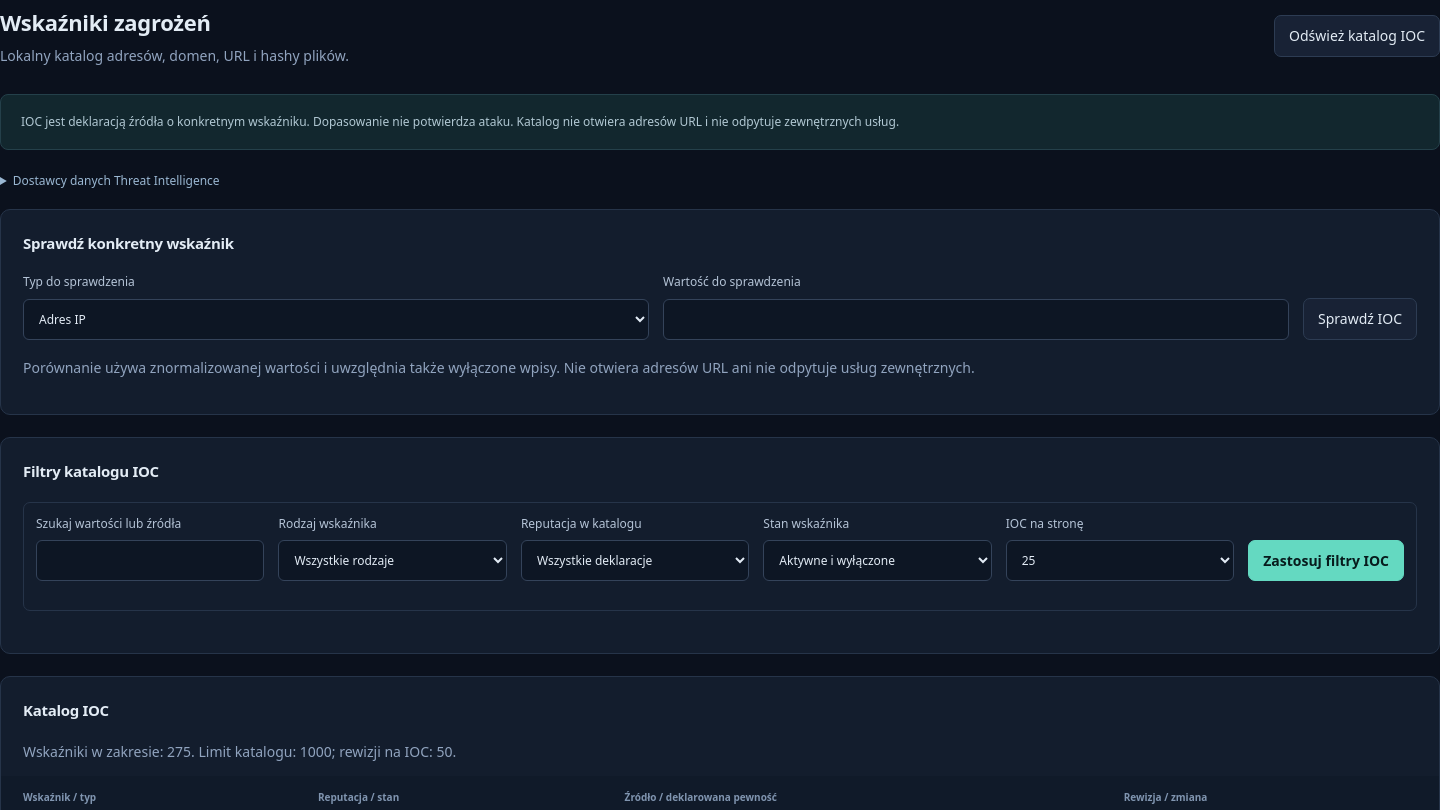
Test: clears stale rows during reload, distinguishes a failure from an empty catalogue and permits retry
Click the button "Odśwież katalog IOC" at (1357, 36), box [1274,15,1439,57]
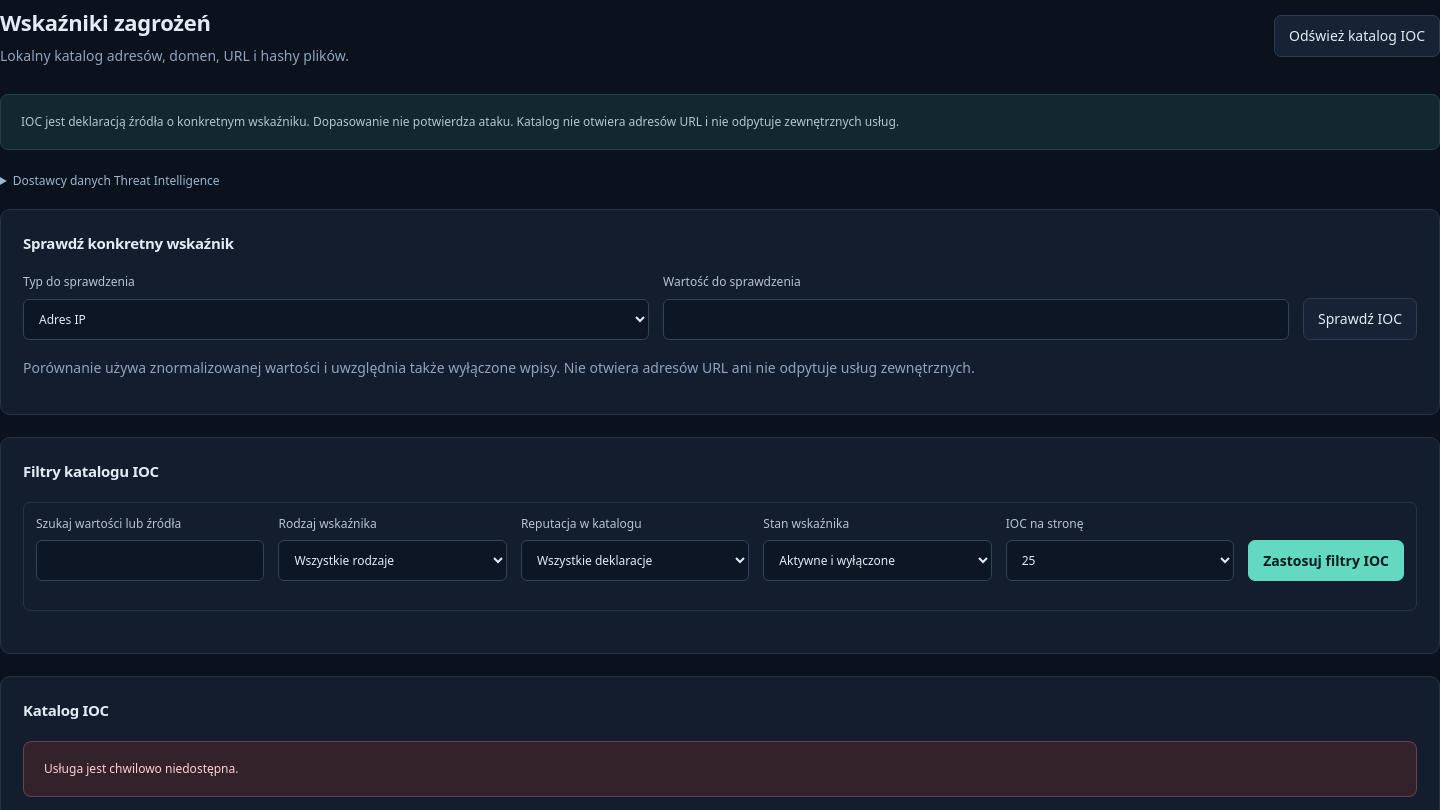
Expected: the text "Brak wskaźników w tym zakresie" is not shown
Result: the message "Usługa jest chwilowo niedostępna." is shown at [23,740,1417,797]
Click the button "Odśwież katalog IOC" at (1357, 36), box [1274,15,1439,57]
(page scrolled)
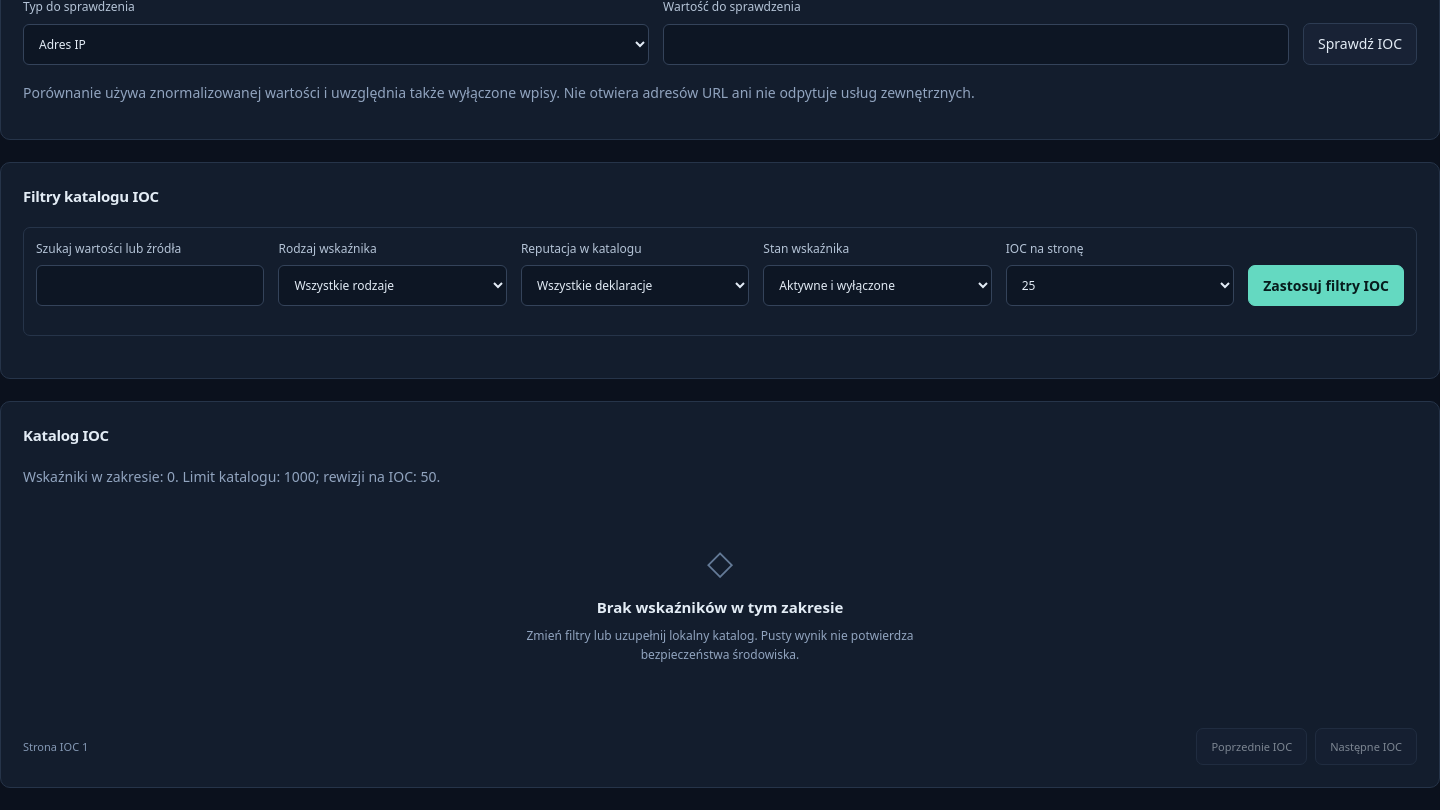
Result: the heading "Brak wskaźników w tym zakresie" is shown at [597,597,843,617]
Result: the text "Pusty wynik nie potwierdza bezpieczeństwa" is shown at [526,627,914,663]
